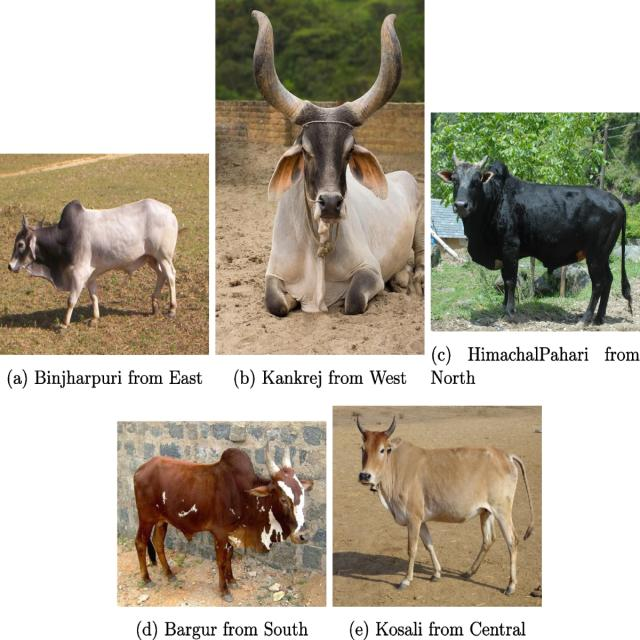Ox: (245, 6, 418, 322), (446, 150, 631, 322), (352, 415, 531, 592), (140, 438, 315, 602), (7, 195, 186, 326)
